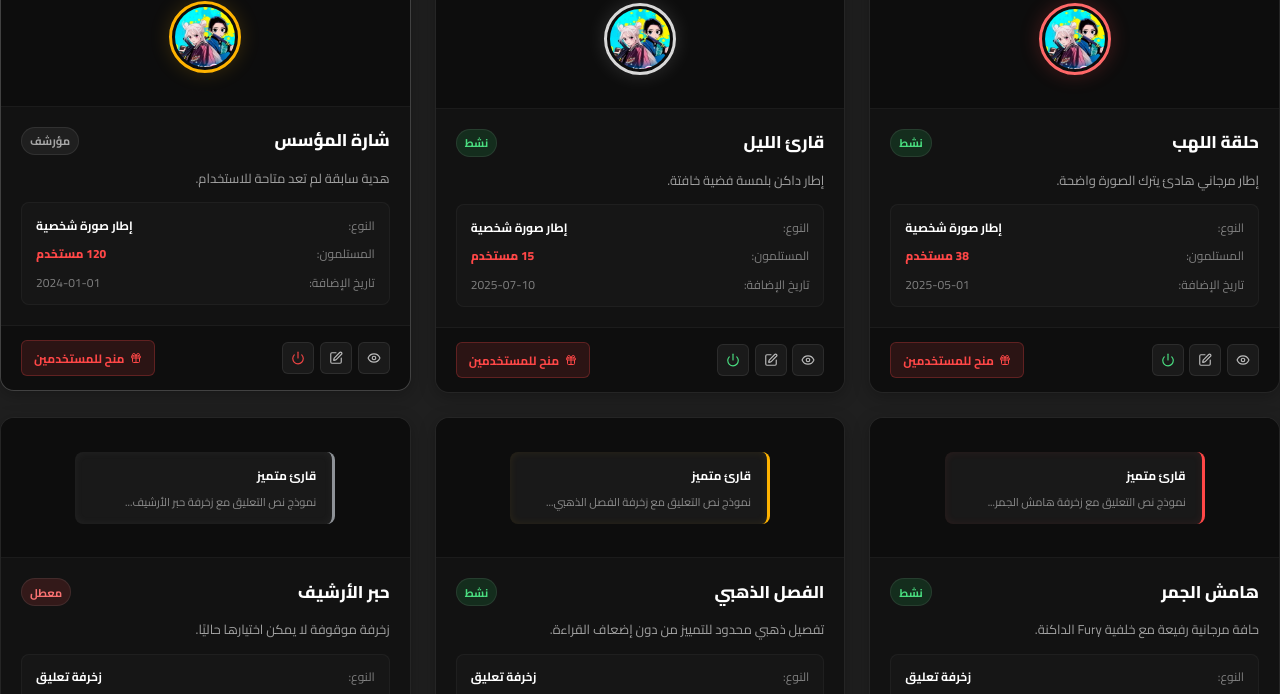
Scenario: AdminGifts Component › toggles active status of a gift
(page scrolled)
Click the button named "تغيير حالة حلقة اللهب": (1168, 360) [1152,344,1184,376]
(page scrolled)
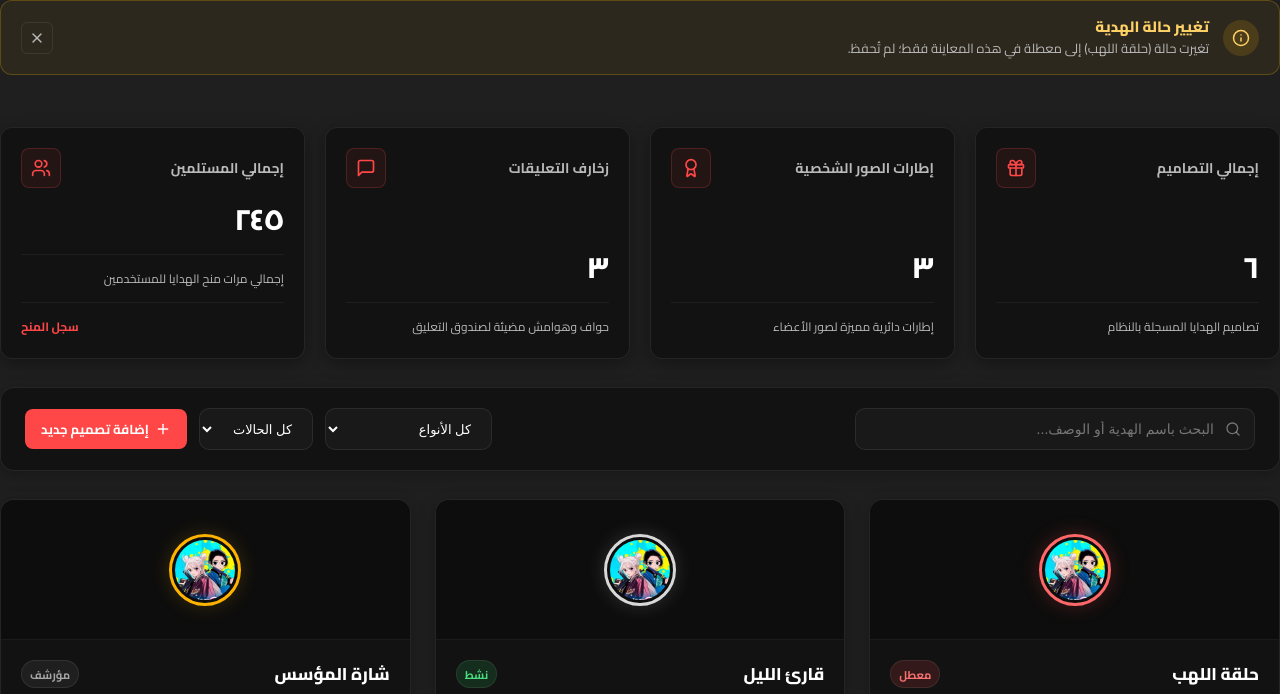
expect the heading "تغيير حالة الهدية" is shown: met, box [1095,12,1209,41]
